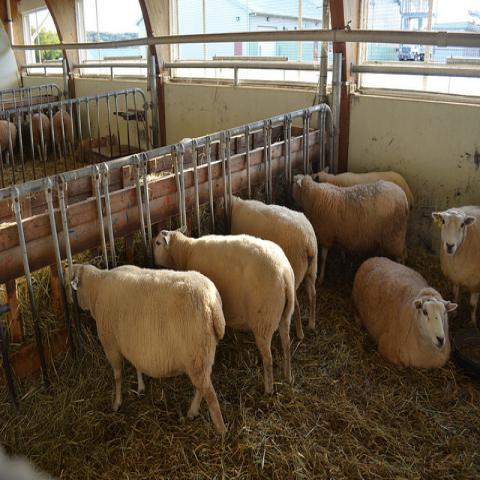car: (400, 46, 414, 60)
truck: (396, 44, 426, 62)
